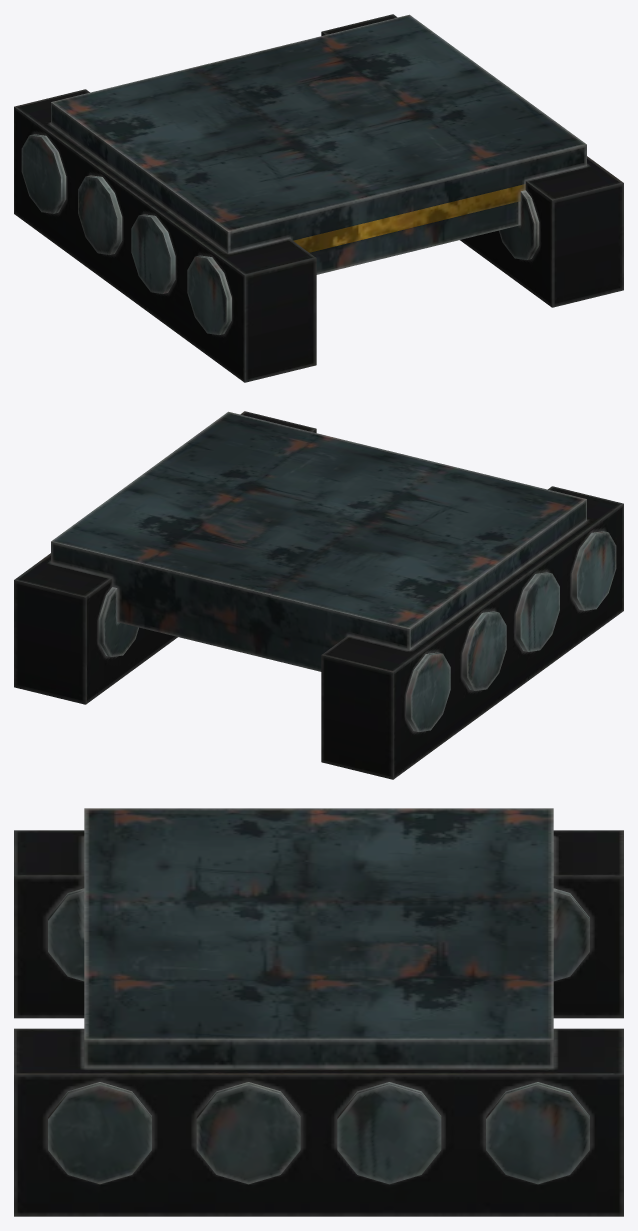
File: tracks.glb
The picture shows the model from 3 angles, top to bottom: view 1: azimuth 30°, elevation 25°; view 2: azimuth 150°, elevation 25°; view 3: azimuth 270°, elevation 25°; orthographic projection. The views are drawn at different scales.
Parts seen in each view (by area): view 1: te_tracks; view 2: te_tracks; view 3: te_tracks.
Part boxes in pixels (box(x1,y1,x2,y2)): te_tracks: box(14, 14, 623, 382); te_tracks: box(14, 411, 623, 779); te_tracks: box(14, 808, 623, 1216).
Size of the model in its own units: 0.76 by 0.24 by 0.78.
1 material, 1 textured.
